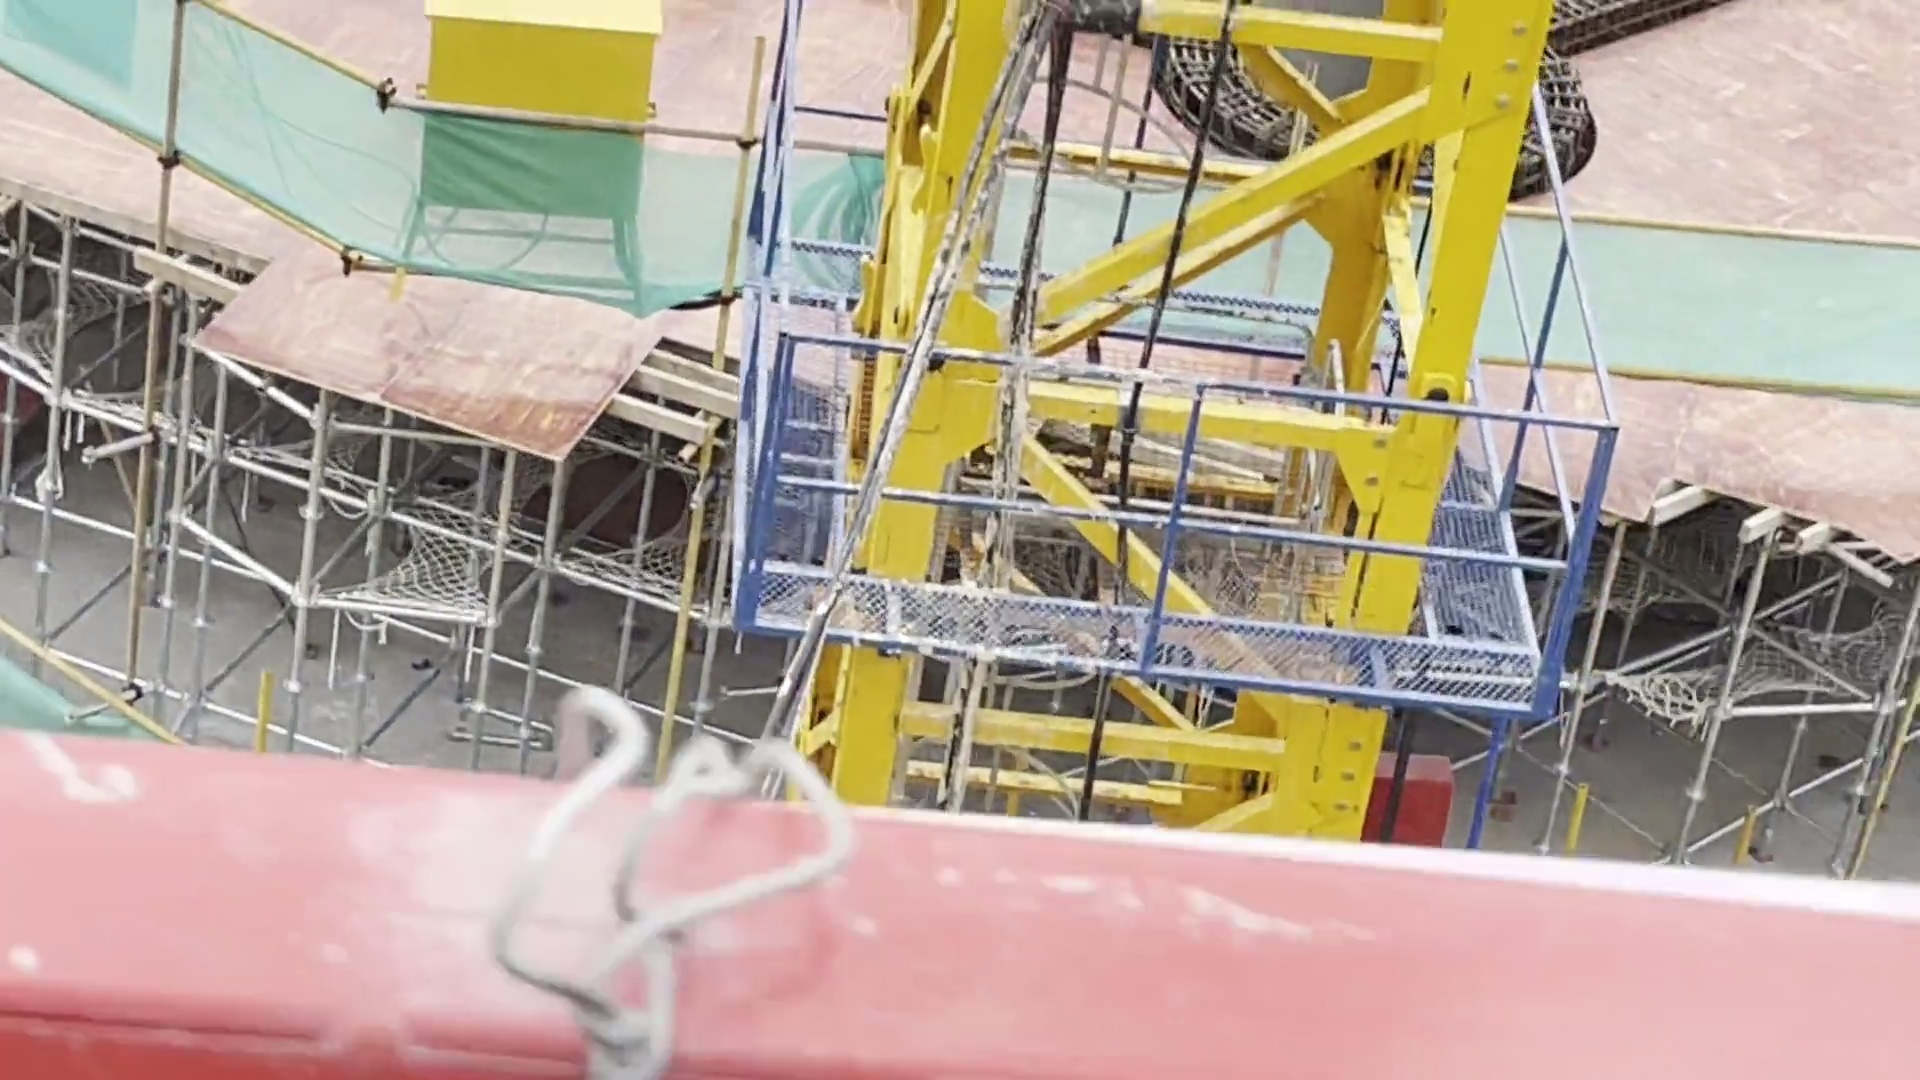ebox: (364, 1, 688, 291)
